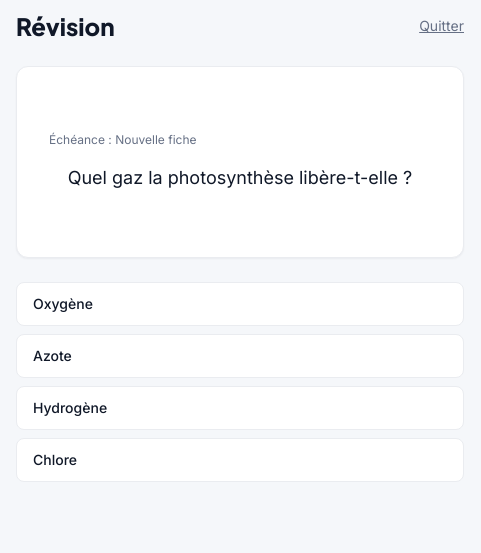
Test: ReviewScreen › mcq: a grading failure shows an error and re-enables the options for a retry
The image size is (481, 553).
Expected: the text "Quel gaz la photosynthèse libère-t-elle ?" is shown, [49,164,431,192]
Click the button "Oxygène".
click(63, 304)  # box [16,282,464,326]
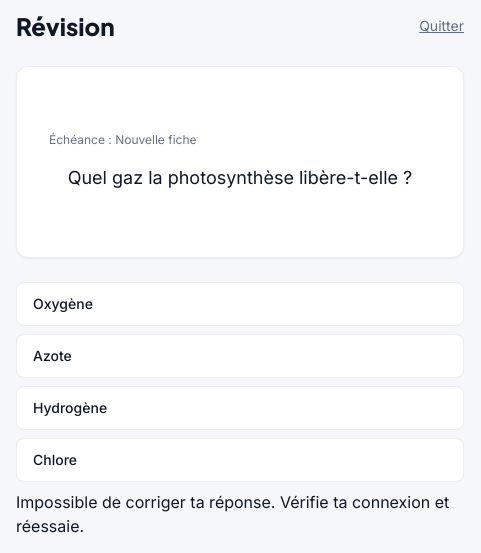
Expected: the message shows "Impossible de corriger ta réponse", [16,492,449,536]
